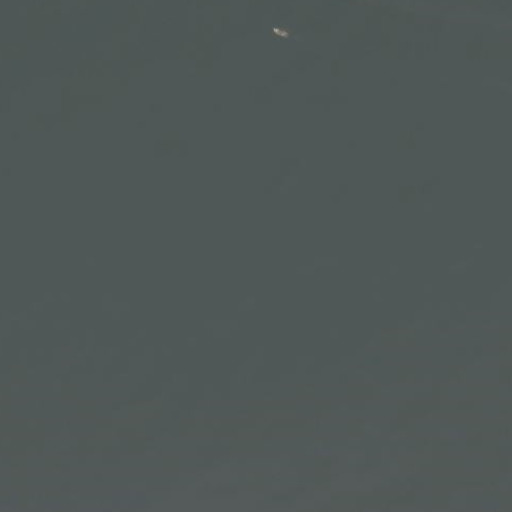ship: (270, 24, 290, 40)
